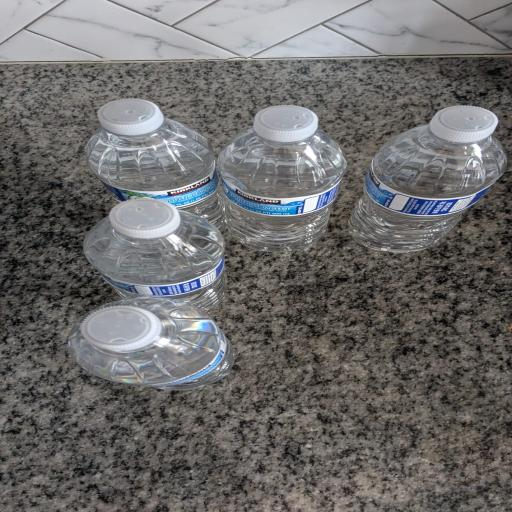waterbottle: (349, 106, 506, 252), (218, 106, 346, 251), (86, 100, 225, 230), (84, 198, 225, 309), (69, 298, 233, 390)
